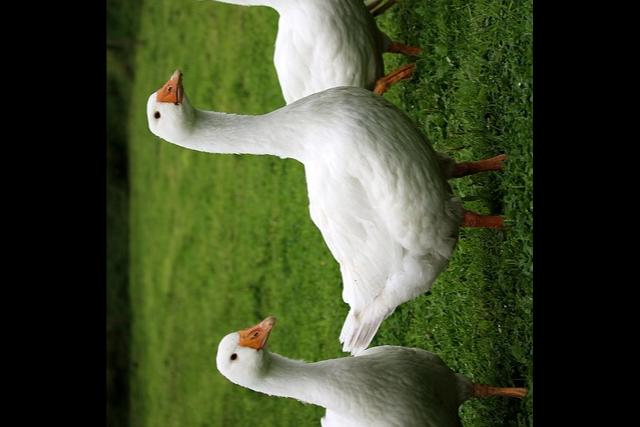Non_Gorille: (106, 0, 483, 427)
